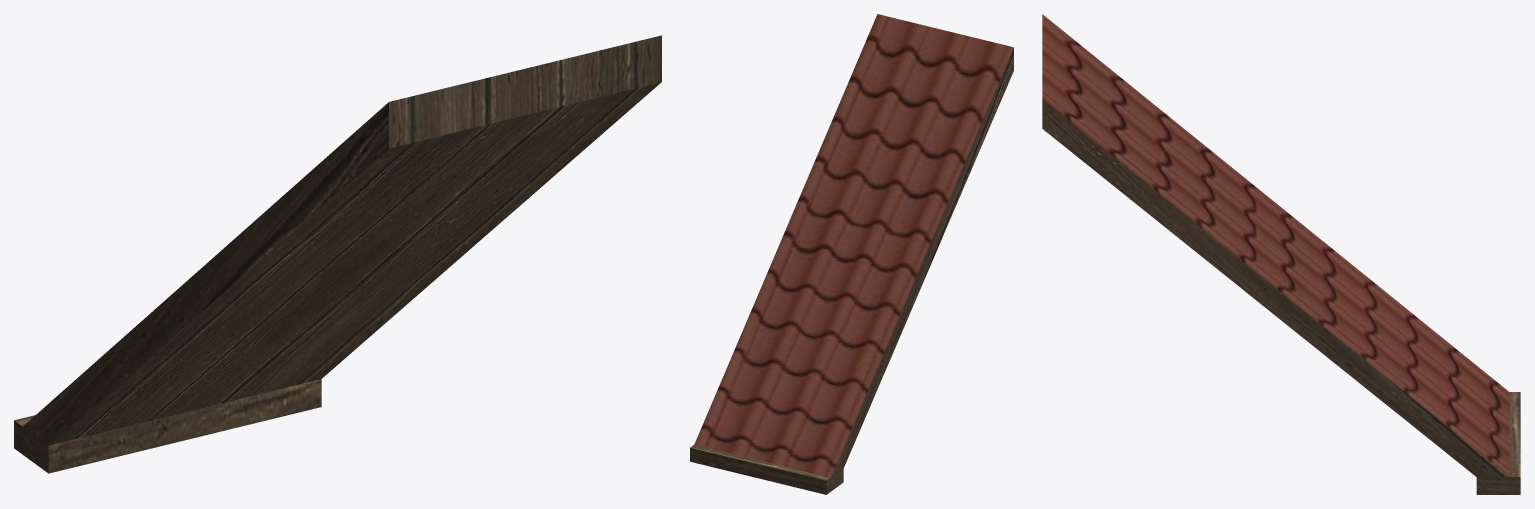
Rendered from ARC1010383.fbx.
3 views of the same model, side by side, from view 1: azimuth 30°, elevation 25°; view 2: azimuth 150°, elevation 25°; view 3: azimuth 270°, elevation 25° (orthographic). The views are drawn at different scales.
Visible parts, largest first — view 1: smARC1010383; view 2: smARC1010383; view 3: smARC1010383.
Boxes of the visible parts, x1=… form: smARC1010383: x1=14, y1=35, x2=661, y2=473; smARC1010383: x1=690, y1=14, x2=1013, y2=494; smARC1010383: x1=1042, y1=14, x2=1520, y2=494.
Size of the model in its own units: 135 by 293 by 320.
Materials: 1 (1 with a texture image).
